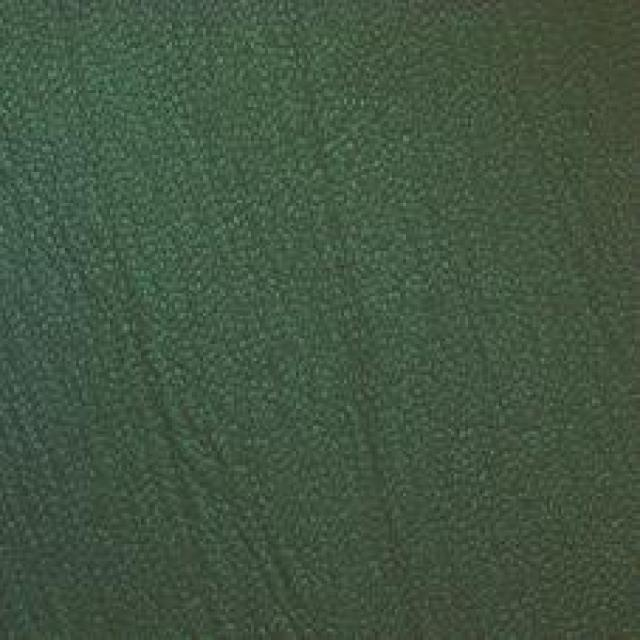Growth Marks: (74, 197, 246, 534), (304, 201, 455, 556)
